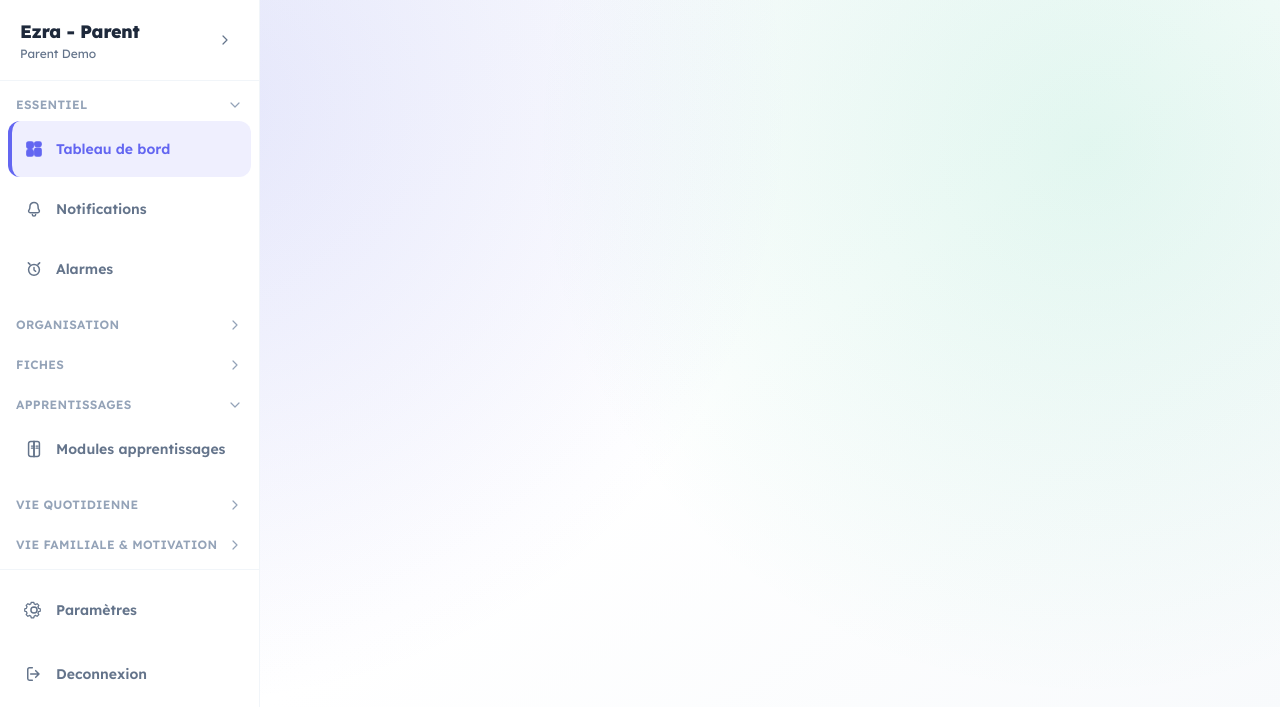
Test: ParentSidebar › affiche toutes les sections et les liens de navigation
Expected: the text "Essentiel" is shown, [16,97,88,113]
Expected: the link "Tableau de bord" is shown, [8,121,251,177]
Step 1. Click the button "Organisation" → (130,325), box [8,313,251,337]
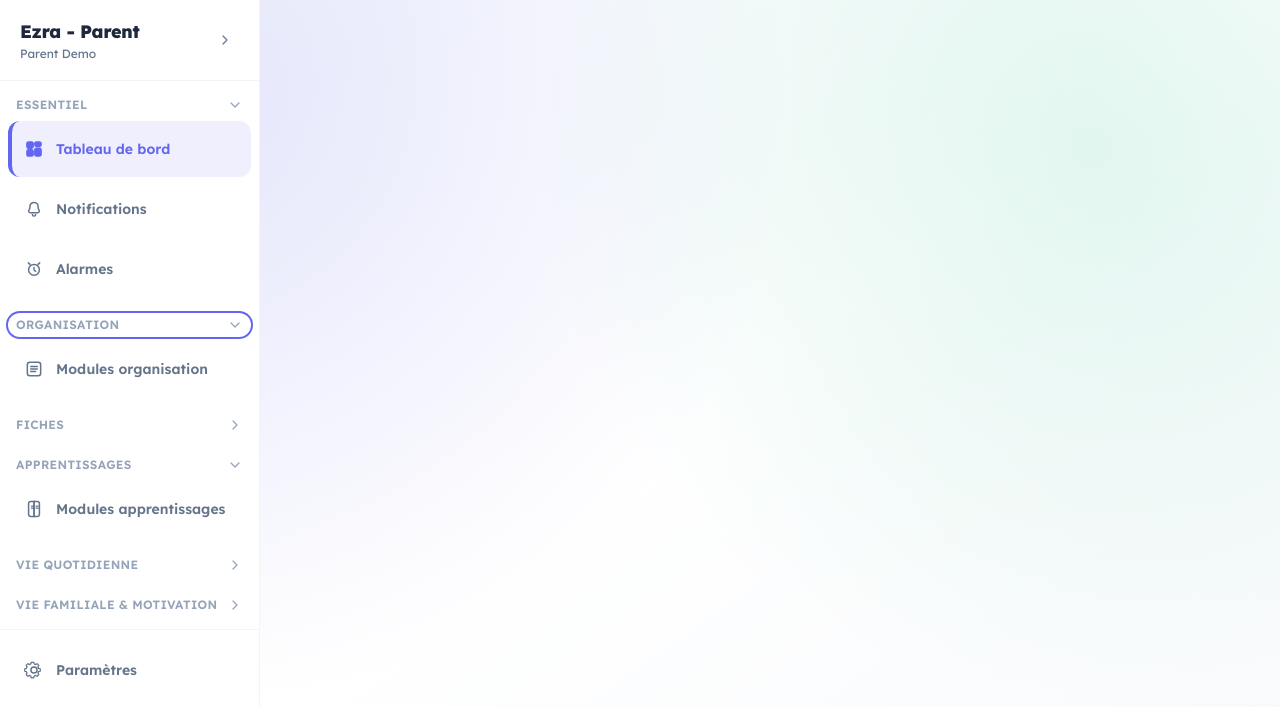
Expected: the text "Fiches" is shown, [16,417,64,433]
Now the link "Modules organisation" is shown, box [24,359,208,379]
Step 2. Click the button "Fiches" → (130,425), box [8,413,251,437]
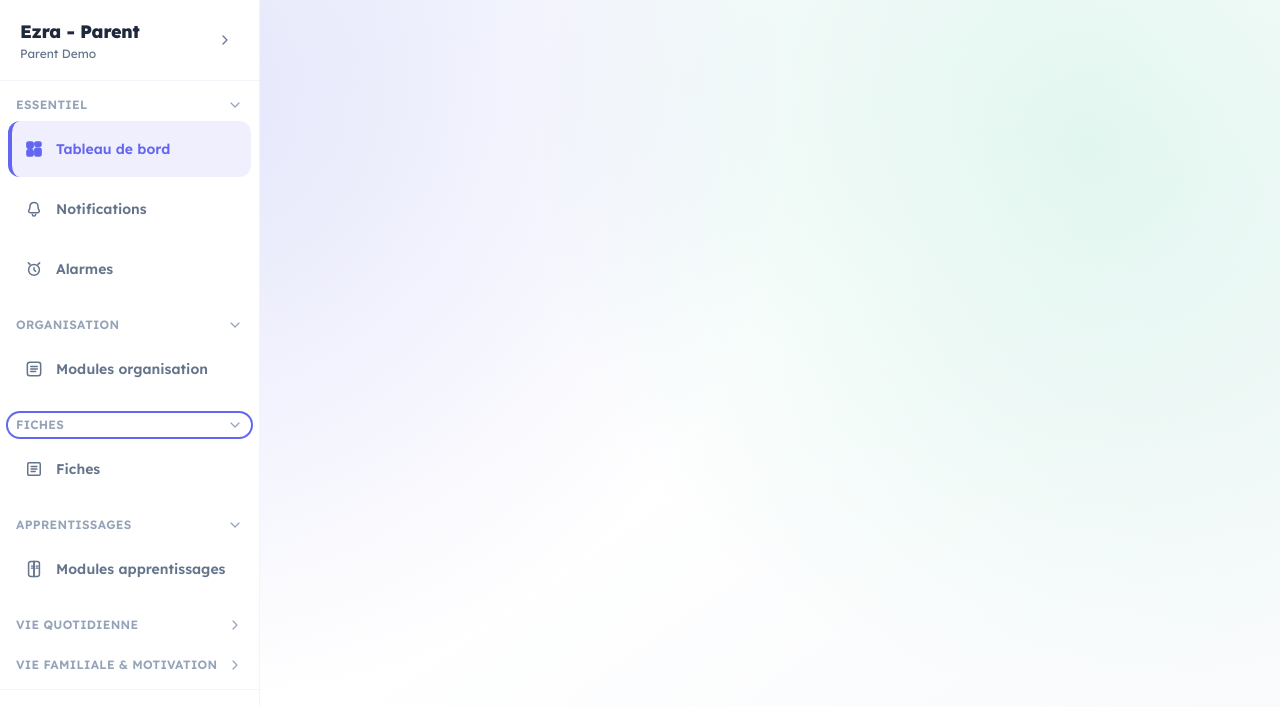
Expected: the text "Apprentissages" is shown, [16,517,132,533]
Now the link "Fiches" is shown, box [24,459,100,479]
Step 3. Click the button "Vie quotidienne" → (130,625), box [8,613,251,637]
(page scrolled)
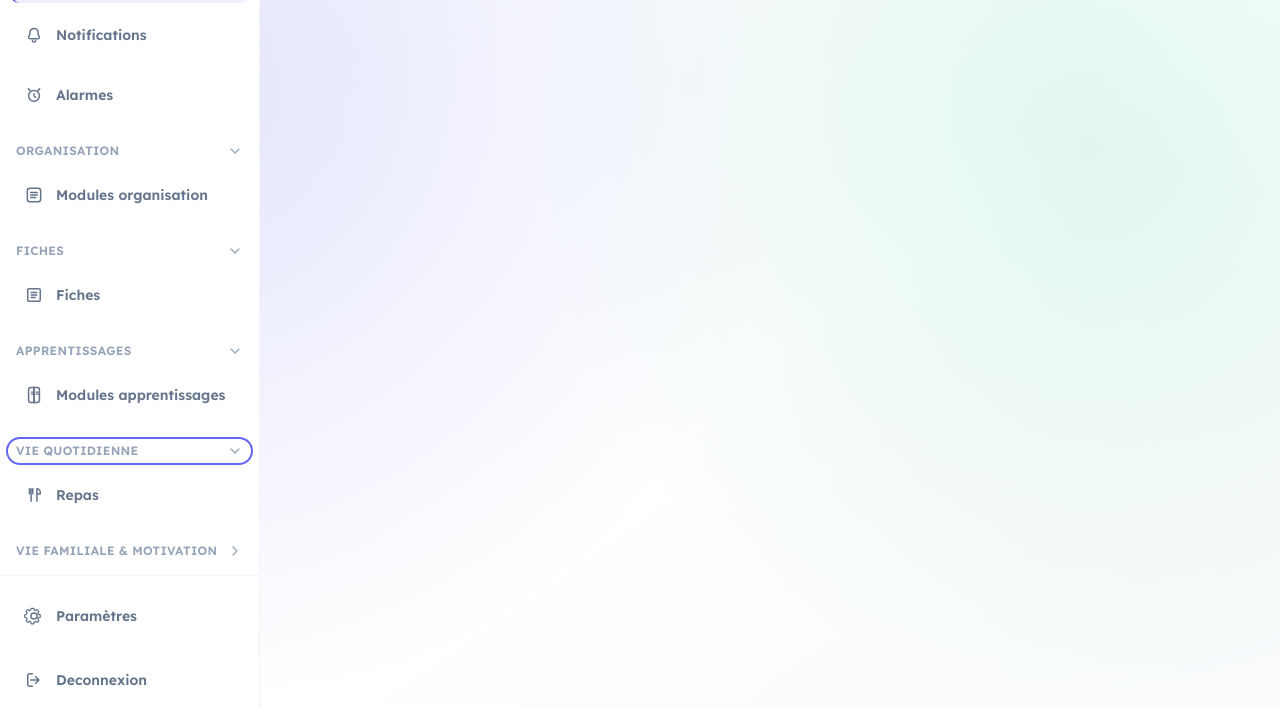
Expected: the text "Vie familiale & motivation" is shown, [16,543,217,559]
Now the link "Repas" is shown, box [24,485,99,505]
Step 4. Click the button "Vie familiale & motivation" → (130,551), box [8,539,251,563]
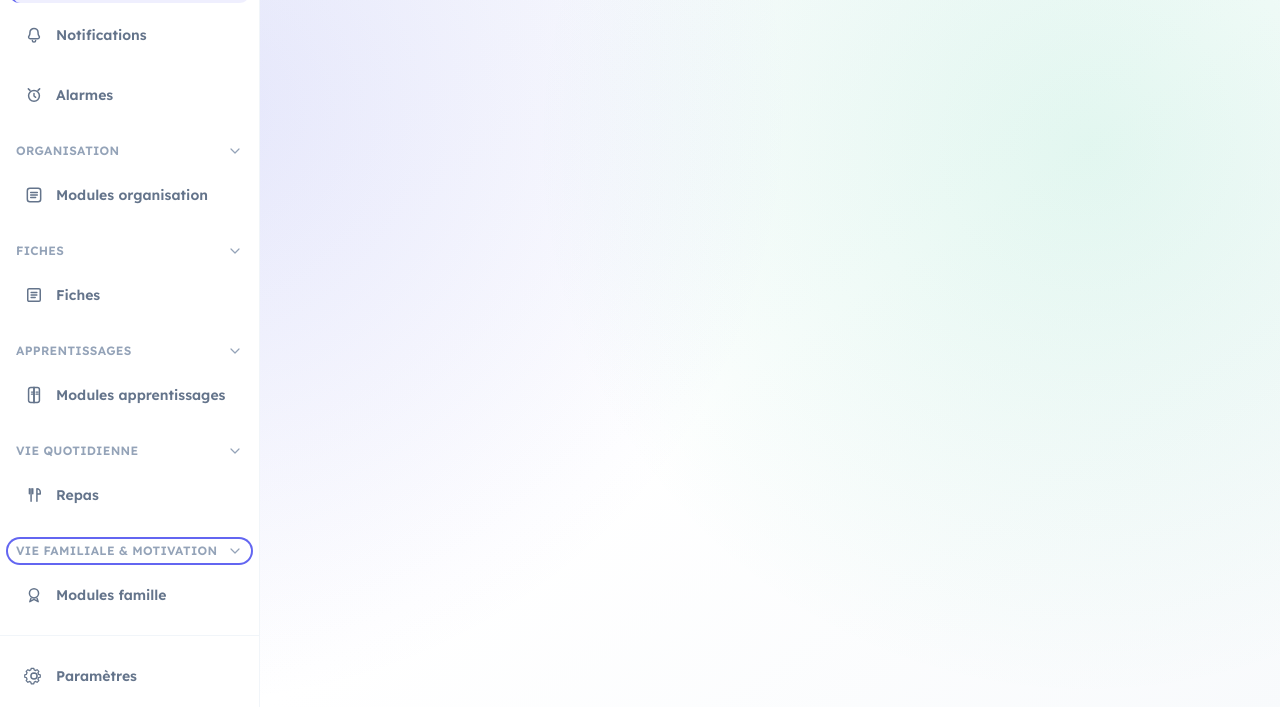
Expected: the link "Paramètres" is shown, [24,666,137,686]
Now the link "Modules famille" is shown, box [24,585,166,605]
